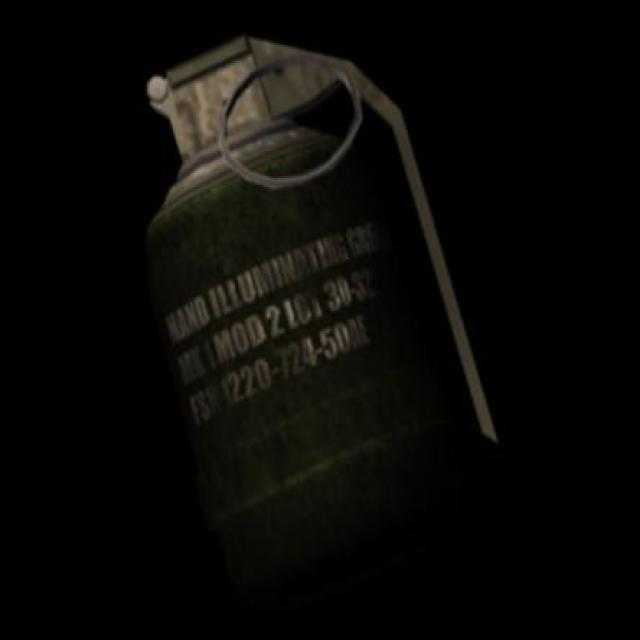grenade: (145, 37, 502, 613)
